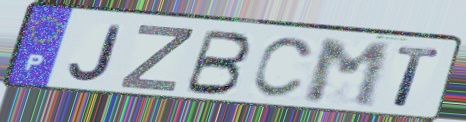B: (181, 27, 255, 97)
C: (248, 35, 318, 101)
J: (66, 23, 125, 84)
M: (303, 38, 394, 111)
T: (391, 44, 444, 111)
Z: (115, 23, 197, 95)
